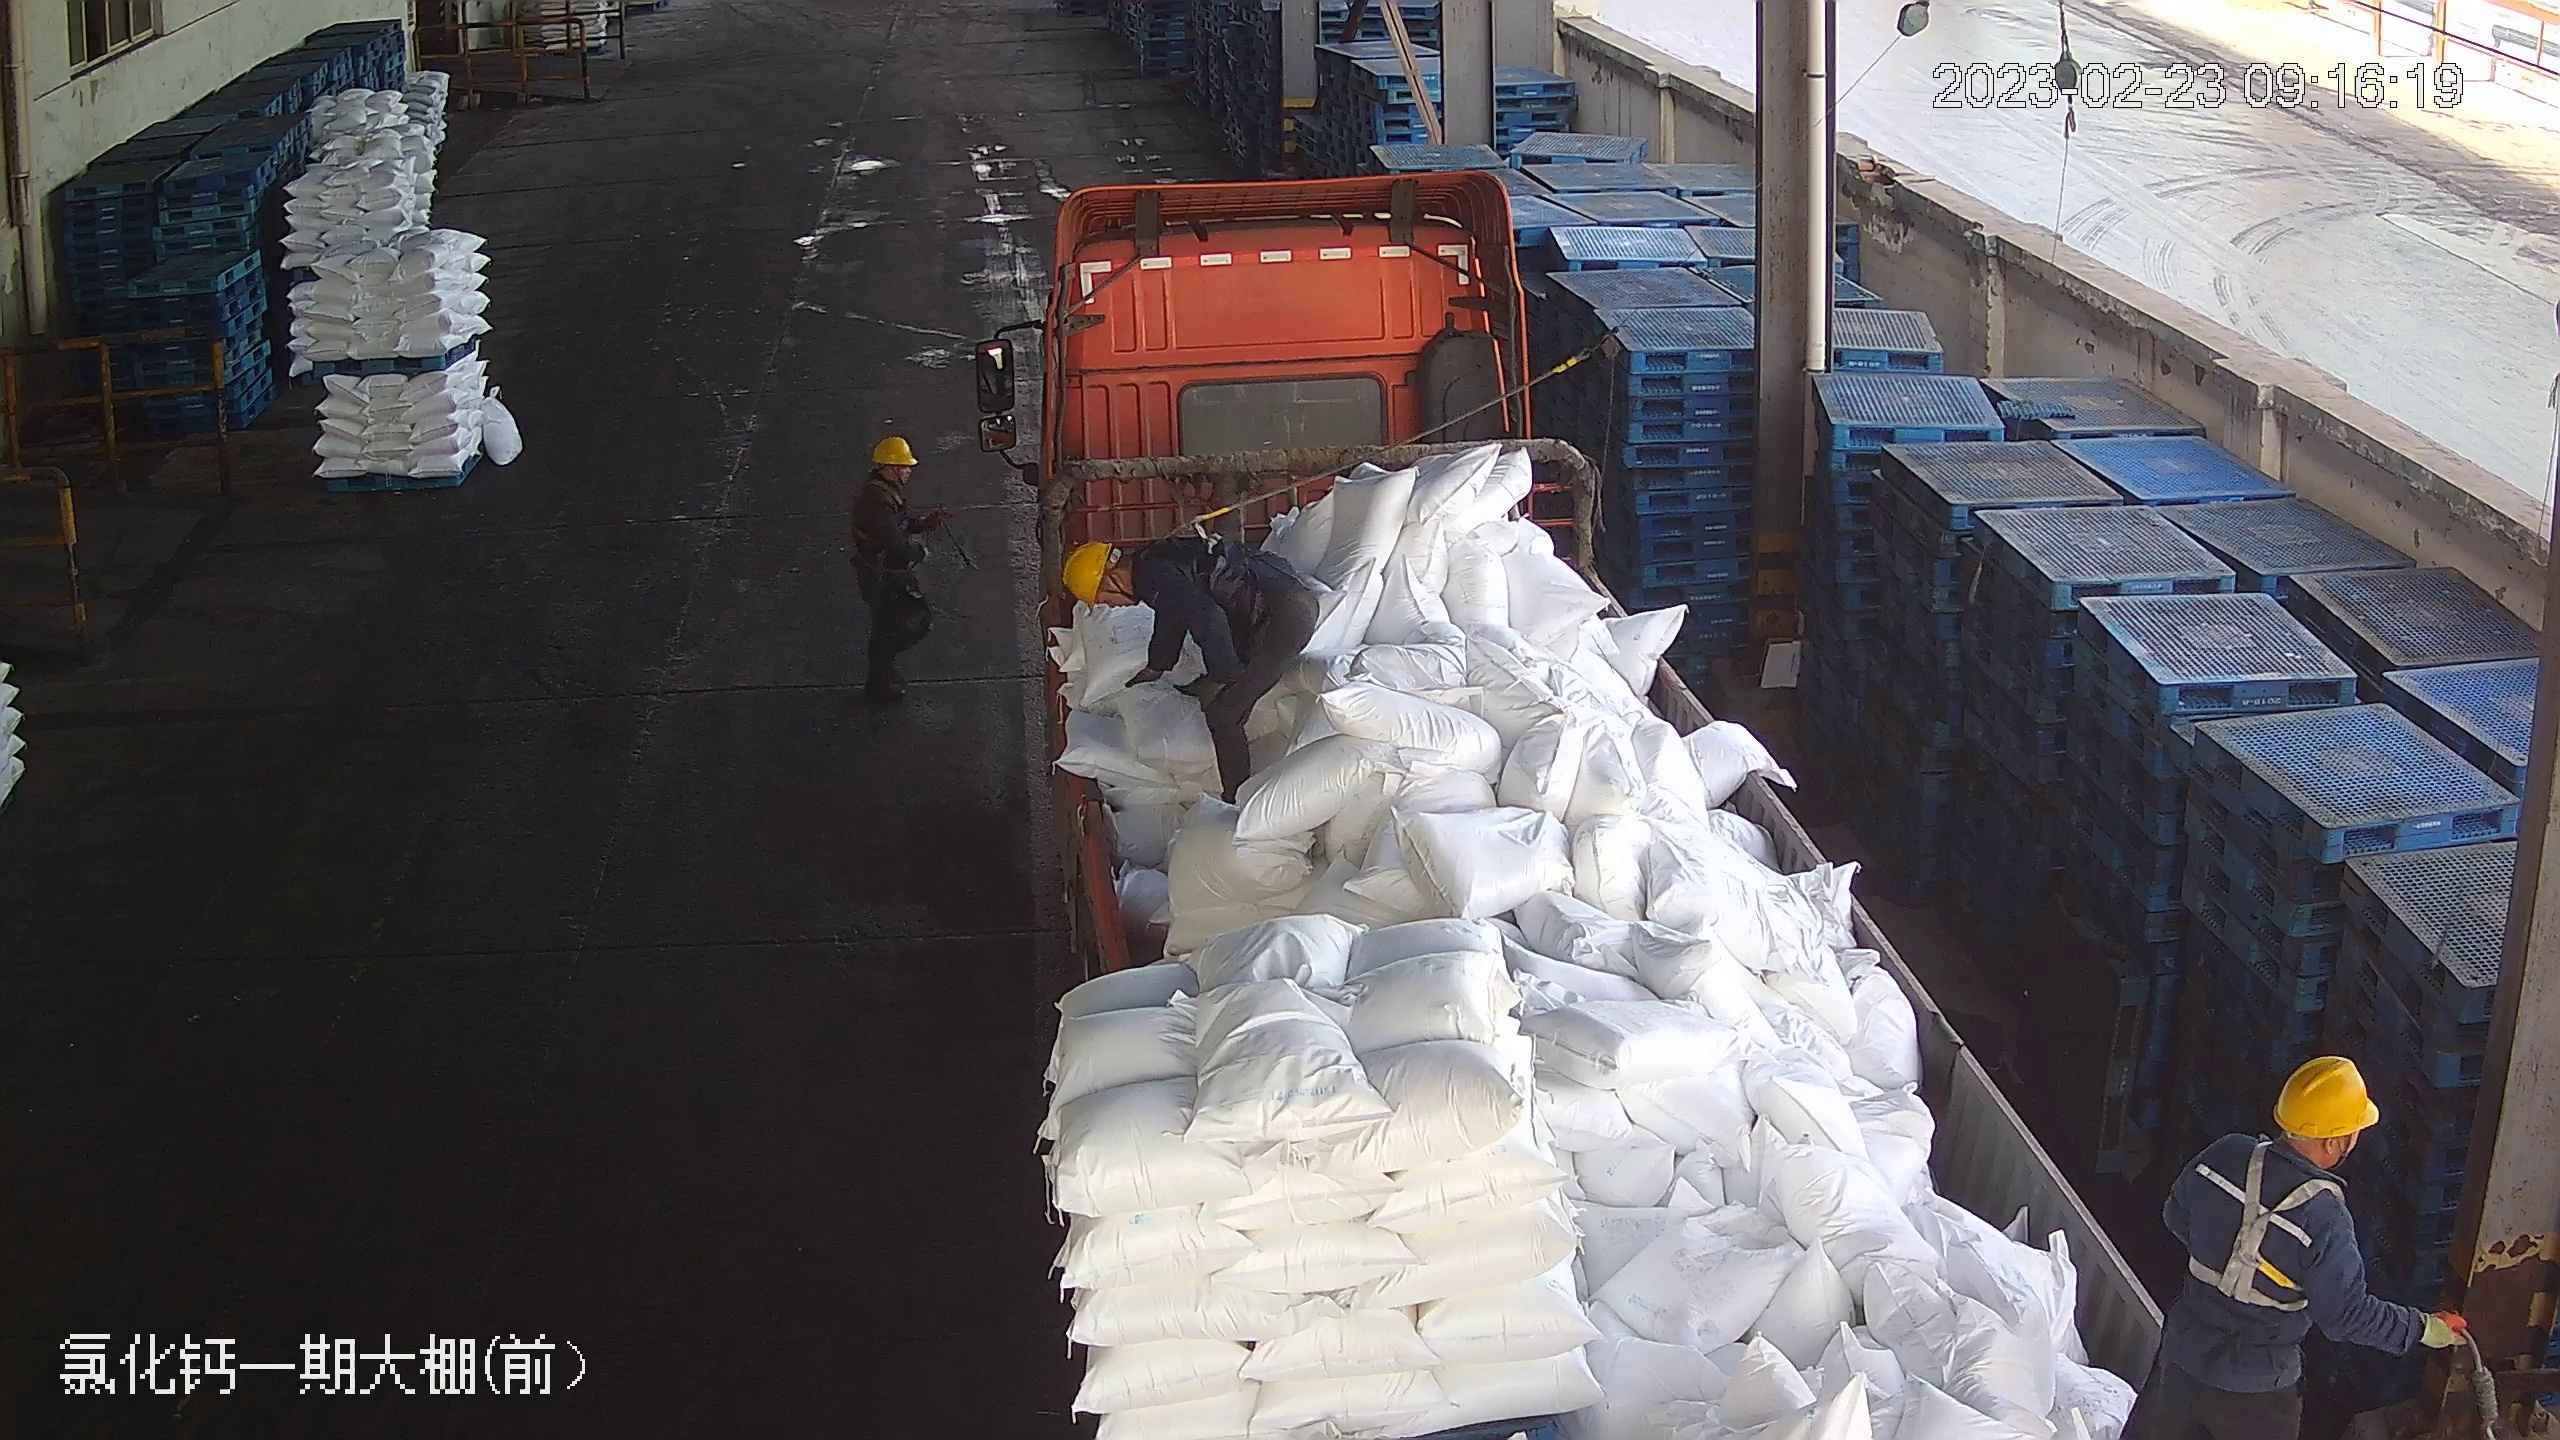belt: (2184, 1136, 2344, 1316), (1138, 506, 1249, 573)
head: (2169, 1051, 2389, 1241), (1053, 529, 1216, 645), (845, 432, 946, 557)
helmet: (2271, 1051, 2377, 1136), (1060, 538, 1112, 609), (869, 432, 918, 467)
people: (2132, 1047, 2485, 1436), (1067, 521, 1325, 815), (845, 428, 958, 723)
truck: (980, 172, 2218, 1430)
